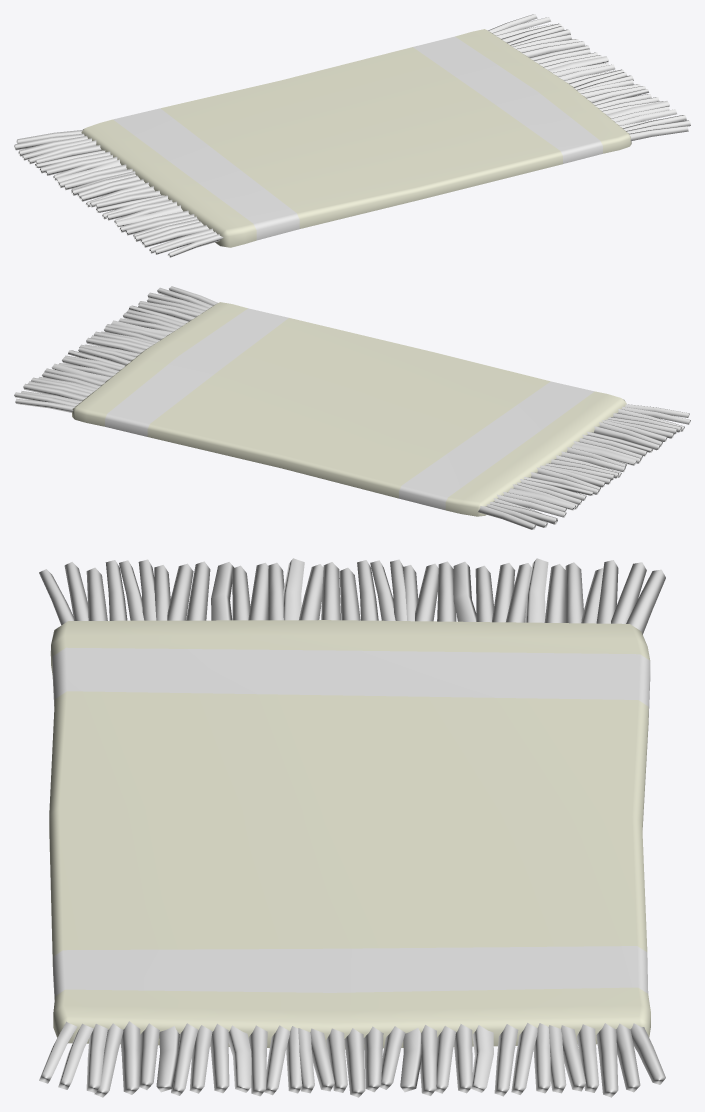
Rendered from Rug Door Mat.fbx.
3 renders of one model, top to bottom at view 1: azimuth 30°, elevation 25°; view 2: azimuth 150°, elevation 25°; view 3: azimuth 270°, elevation 25°, orthographic. The views are drawn at different scales.
Parts seen in each view (by area): view 1: Rug_Door_Mat; view 2: Rug_Door_Mat; view 3: Rug_Door_Mat.
Part boxes in pixels (<box>): Rug_Door_Mat: <box>14,14,690,257</box>; Rug_Door_Mat: <box>14,286,690,529</box>; Rug_Door_Mat: <box>39,558,665,1097</box>.
Size of the model in its own units: 1.55 by 0.0423 by 0.7846.
